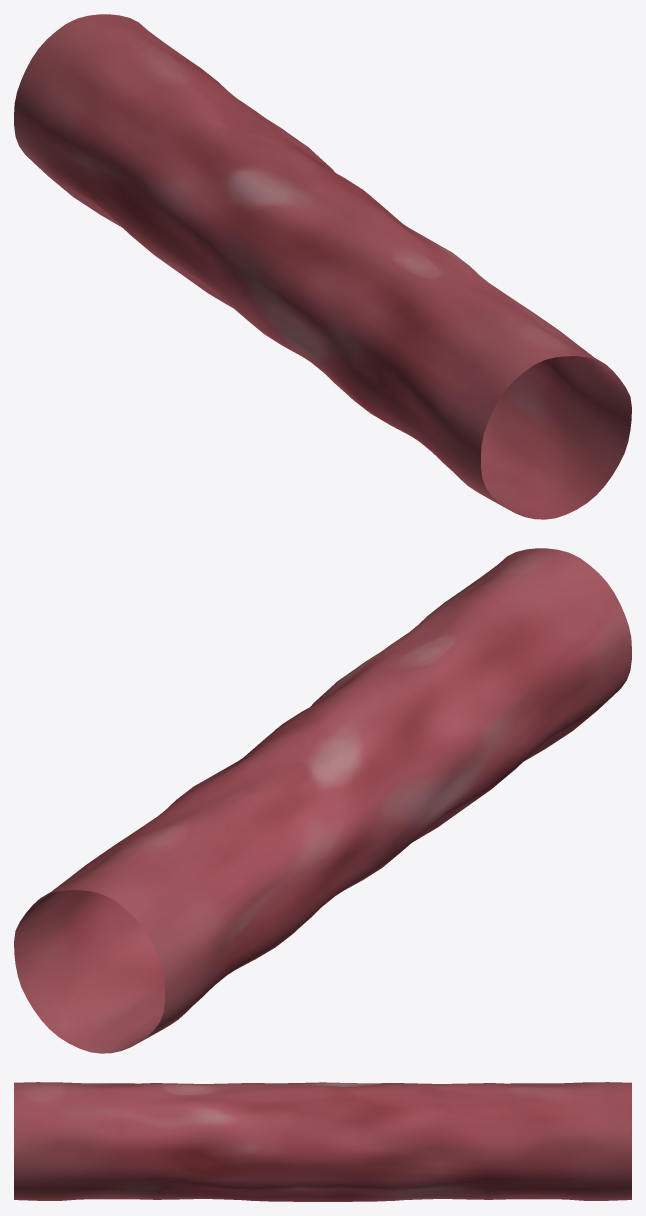
File: VagiainaFBX.fbx
3 views of the same model, one above another, from view 1: azimuth 30°, elevation 25°; view 2: azimuth 150°, elevation 25°; view 3: azimuth 270°, elevation 25° (orthographic). The views are drawn at different scales.
Parts seen in each view (by area): view 1: Vagiaina; view 2: Vagiaina; view 3: Vagiaina.
Part boxes in pixels (box(x1,y1,x2,y2)): Vagiaina: box(14, 14, 631, 519); Vagiaina: box(14, 548, 631, 1053); Vagiaina: box(14, 1082, 631, 1201).
Size of the model in its own units: 77.65 by 76.99 by 400.
